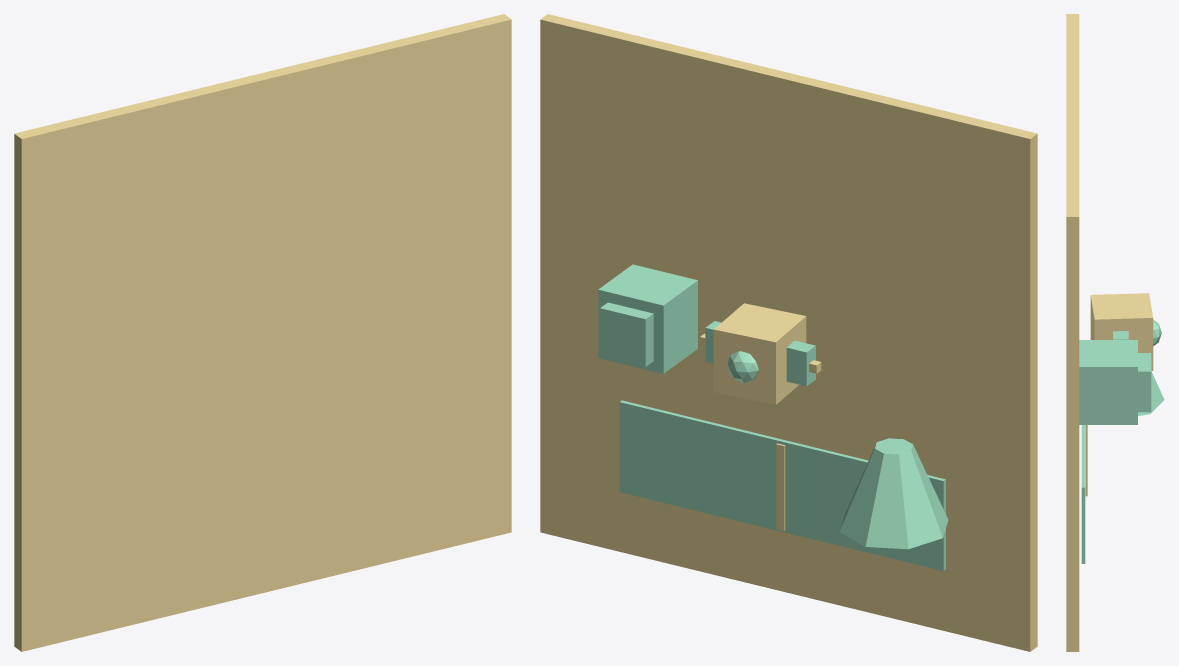
Rendered from minefield-classic-kit.glb.
3 renders of one model, left to right at view 1: azimuth 30°, elevation 25°; view 2: azimuth 150°, elevation 25°; view 3: azimuth 270°, elevation 25°, orthographic. The views are drawn at different scales.
Visible parts, largest first — view 1: ENVIRONMENT_GROUND; view 2: ENVIRONMENT_GROUND, PROFILE_ENVIRONMENT_DETAIL, ENVIRONMENT_LANDMARK, PLAYER_BODY, OBSTACLE, PROFILE_OBSTACLE_DETAIL, PROFILE_PLAYER_DETAIL, PROFILE_ENVIRONMENT_MARKING, PLAYER_CORE; view 3: ENVIRONMENT_GROUND, OBSTACLE, PLAYER_BODY, PROFILE_OBSTACLE_DETAIL, PROFILE_ENVIRONMENT_DETAIL, ENVIRONMENT_LANDMARK, PROFILE_ENVIRONMENT_MARKING, PLAYER_CORE.
Part boxes in pixels (bbox=[...]): ENVIRONMENT_GROUND: bbox=[14, 14, 511, 651]; ENVIRONMENT_GROUND: bbox=[540, 14, 1037, 651]; PROFILE_ENVIRONMENT_DETAIL: bbox=[619, 400, 945, 570]; ENVIRONMENT_LANDMARK: bbox=[839, 438, 948, 549]; PLAYER_BODY: bbox=[713, 303, 806, 404]; OBSTACLE: bbox=[598, 264, 697, 373]; PROFILE_OBSTACLE_DETAIL: bbox=[600, 302, 653, 366]; PROFILE_PLAYER_DETAIL: bbox=[705, 321, 815, 386]; PROFILE_ENVIRONMENT_MARKING: bbox=[776, 443, 785, 530]; PLAYER_CORE: bbox=[727, 351, 758, 382]; ENVIRONMENT_GROUND: bbox=[1066, 14, 1079, 651]; OBSTACLE: bbox=[1079, 340, 1137, 424]; PLAYER_BODY: bbox=[1090, 293, 1153, 370]; PROFILE_OBSTACLE_DETAIL: bbox=[1138, 353, 1151, 412]; PROFILE_ENVIRONMENT_DETAIL: bbox=[1081, 425, 1085, 563]; ENVIRONMENT_LANDMARK: bbox=[1138, 371, 1164, 416]; PROFILE_ENVIRONMENT_MARKING: bbox=[1085, 425, 1087, 496]; PLAYER_CORE: bbox=[1153, 320, 1161, 345].
Bounding box in the file's own units: 9 × 9 × 1.84.
